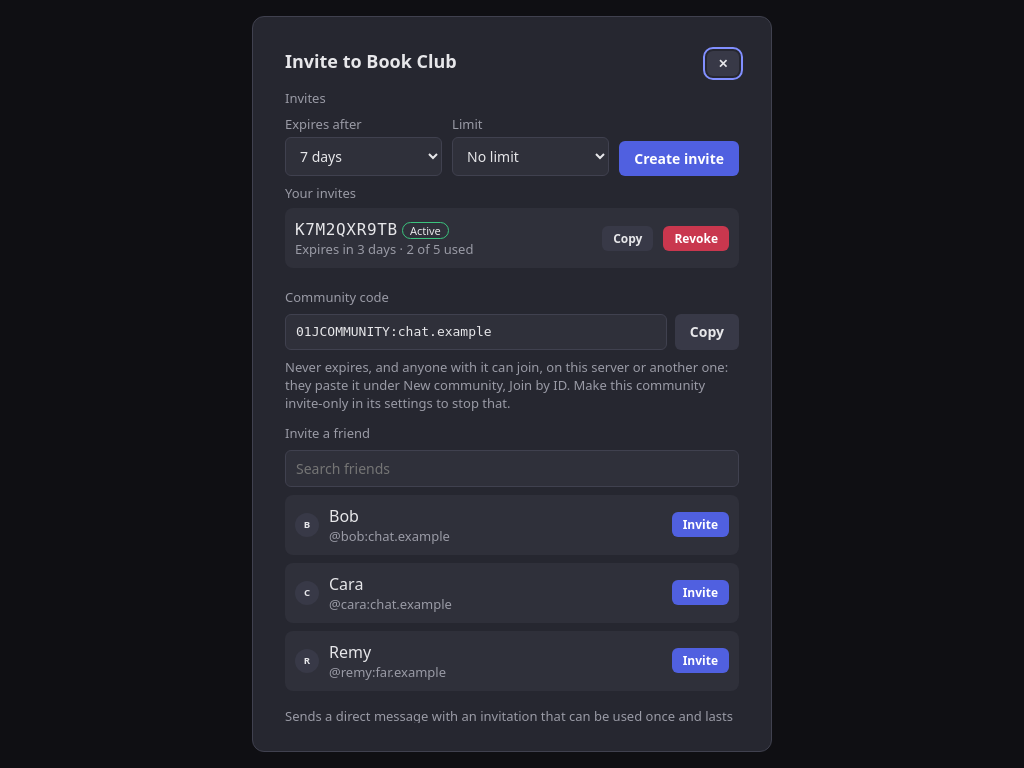
Test case: InviteModal: revoking an invite › does nothing when the question is cancelled
The image size is (1024, 768).
expect the text "K7M2QXR9TB" is shown: met, box [295,220,398,239]
Click the button with aria-label "Revoke invite K7M2QXR9TB": (696, 238) [663,226,729,250]
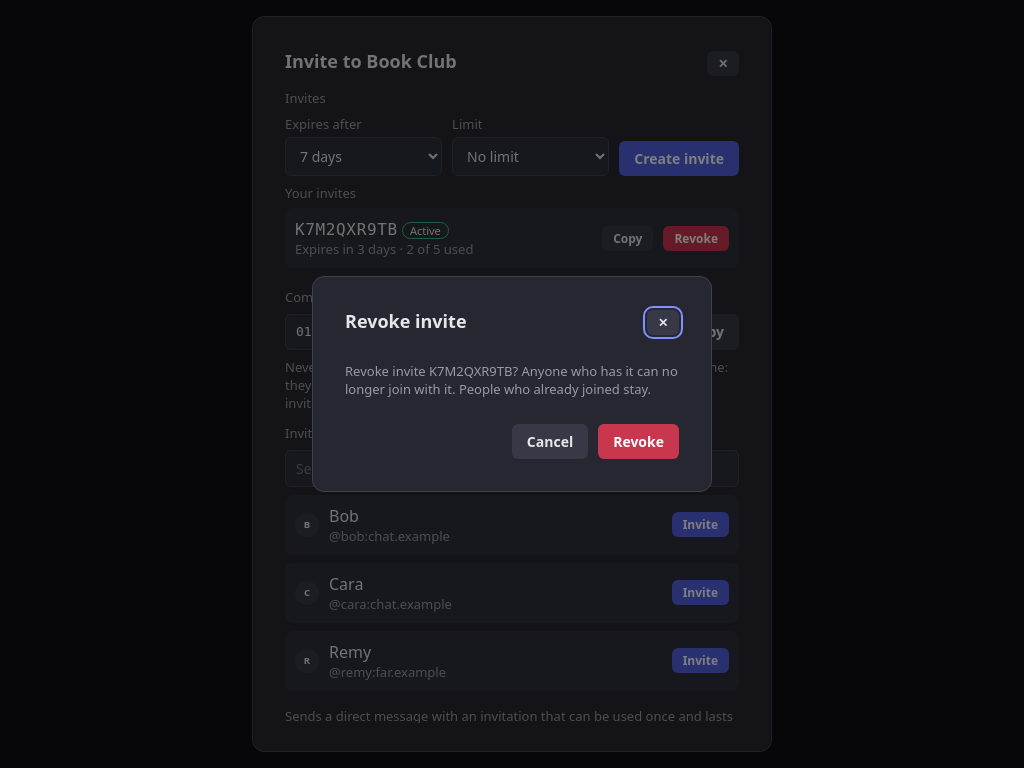
Click the button "Cancel": (550, 442) [512,424,588,459]
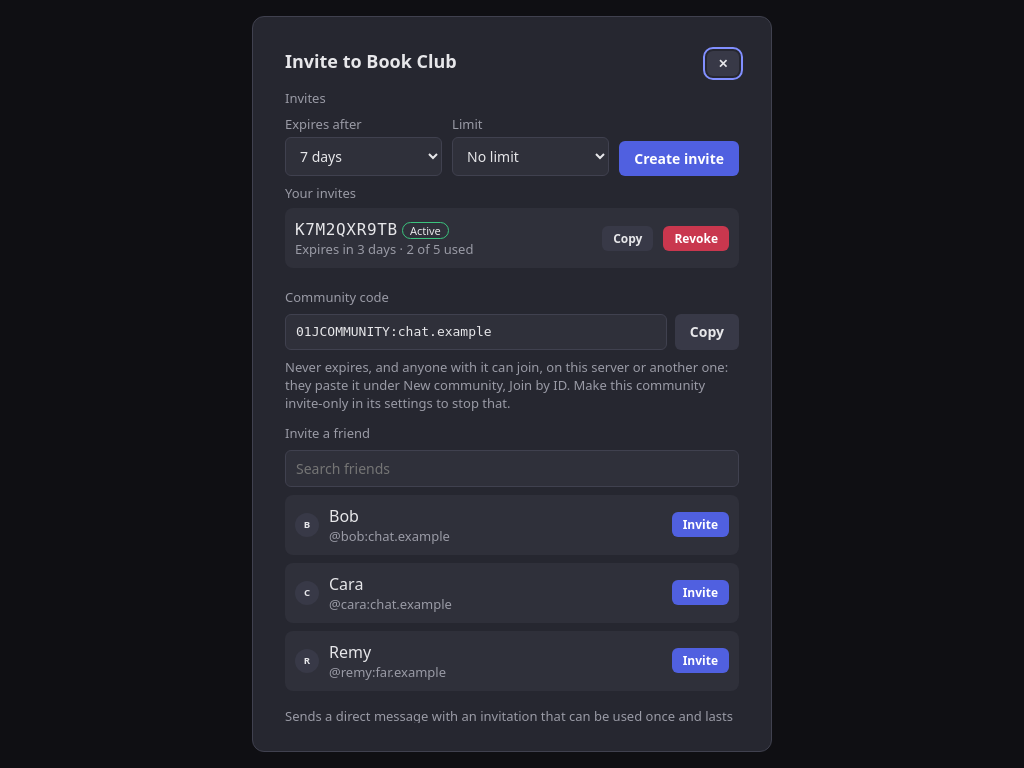
expect the heading "Revoke invite" is gone: met
